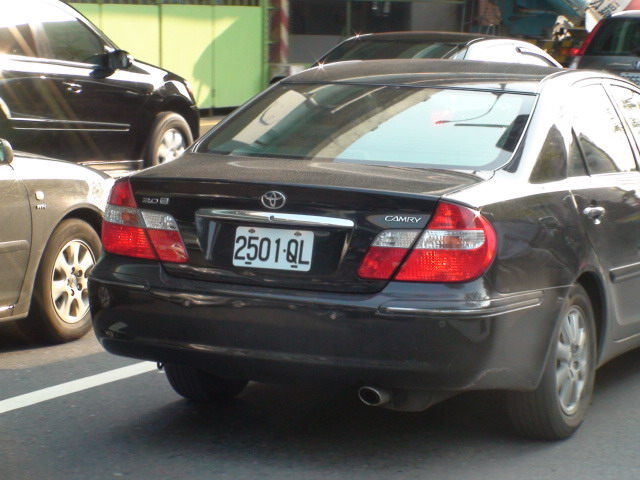plate: (232, 223, 315, 275)
